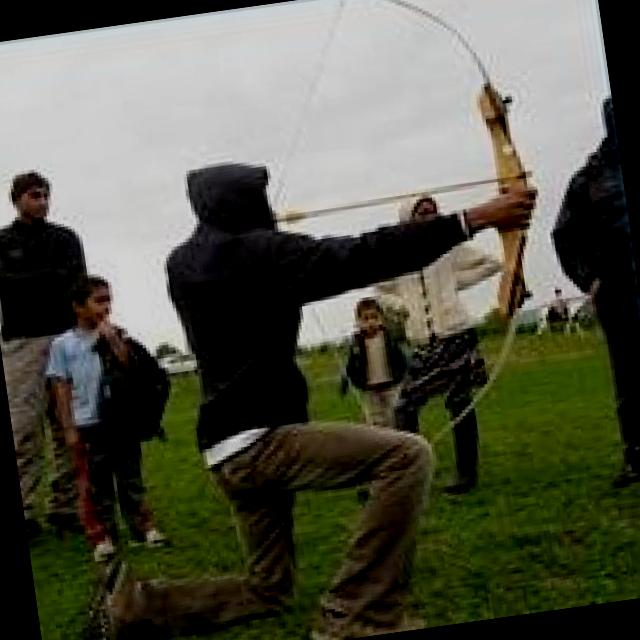no_vest: (158, 216, 345, 474), (546, 143, 640, 312), (0, 219, 100, 344), (41, 321, 112, 434), (396, 256, 482, 346), (334, 322, 412, 394)
